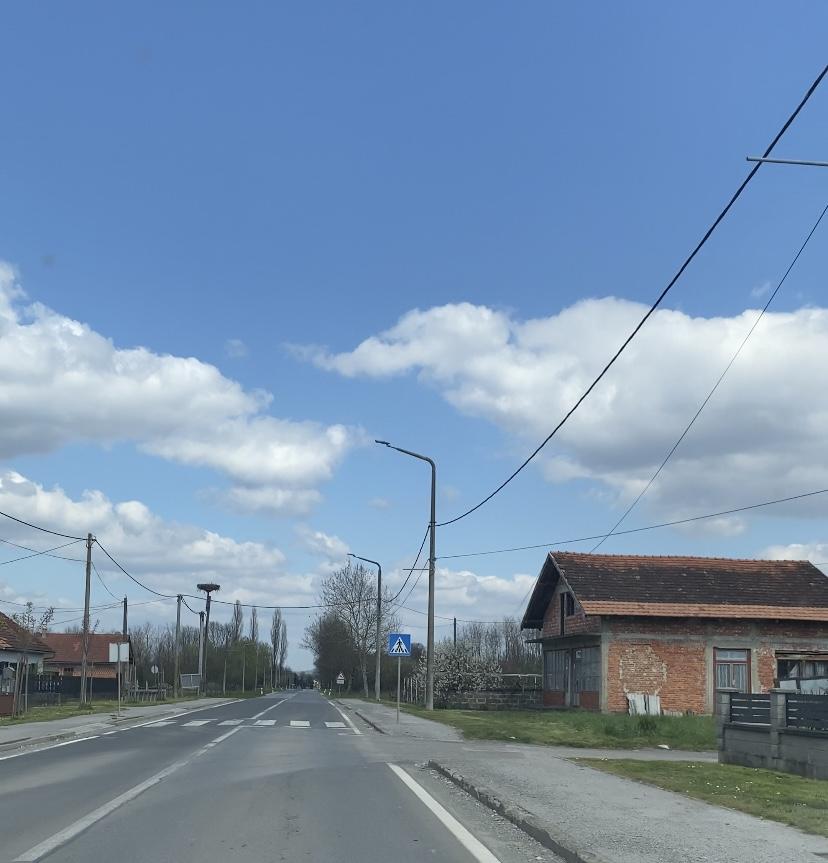Pješački prijelaz: (389, 634, 411, 655)
